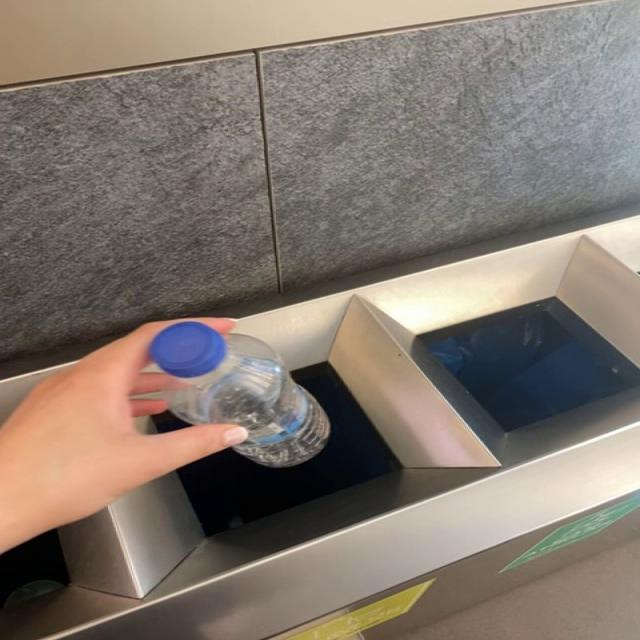plastic: (149, 322, 331, 468)
